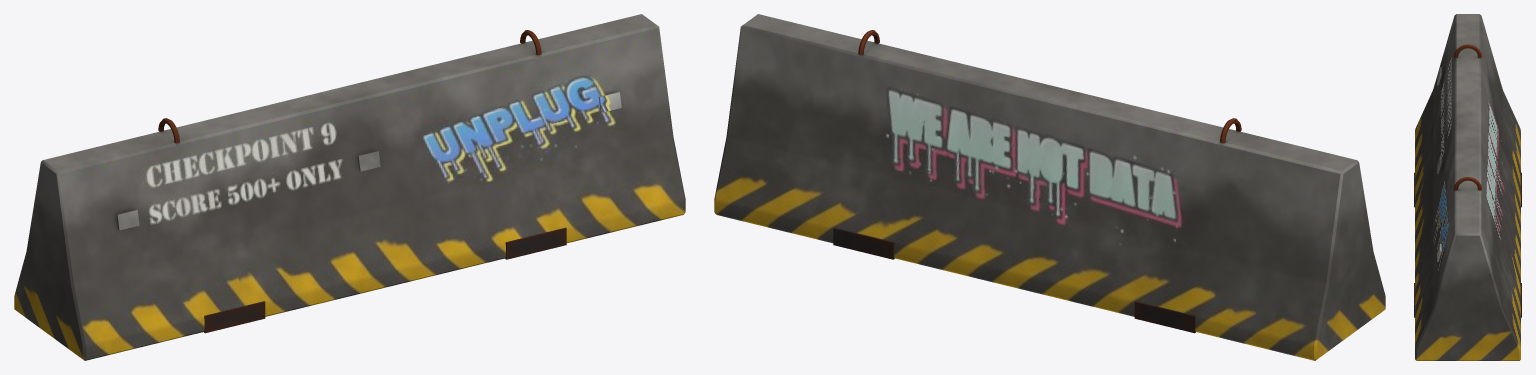
The model's file is jersey_barrier.glb.
3 renders of one model, left to right at view 1: azimuth 30°, elevation 25°; view 2: azimuth 150°, elevation 25°; view 3: azimuth 270°, elevation 25°, orthographic. The views are drawn at different scales.
Visible parts, largest first — view 1: jersey_barrier; view 2: jersey_barrier; view 3: jersey_barrier.
Boxes of the visible parts, left/top/right/bottom form: jersey_barrier: left=14, top=14, right=685, bottom=360; jersey_barrier: left=714, top=14, right=1385, bottom=360; jersey_barrier: left=1414, top=14, right=1521, bottom=360.
Size of what is drawn, in the model's own units: 3 by 0.892 by 0.62.
Materials: 1 (1 with a texture image).
